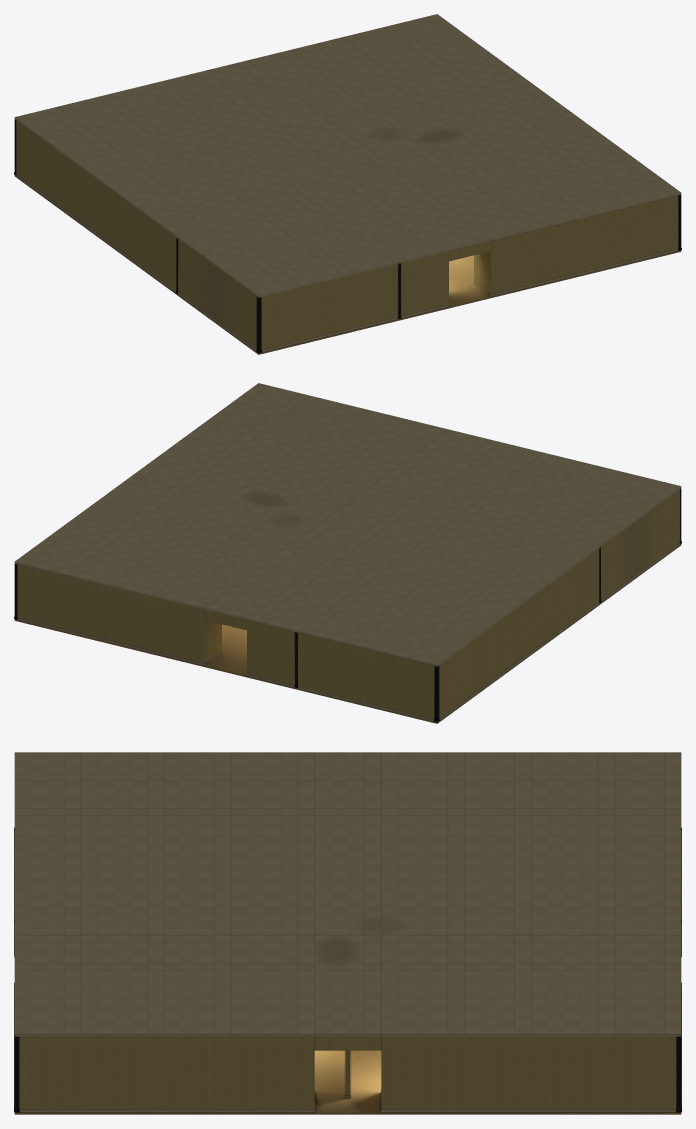
3 renders of one model, top to bottom at view 1: azimuth 30°, elevation 25°; view 2: azimuth 150°, elevation 25°; view 3: azimuth 270°, elevation 25°, orthographic. The views are drawn at different scales.
Visible parts, largest first — view 1: Ceiling, Walls, Floor, Pillars; view 2: Ceiling, Walls, Floor, Pillars; view 3: Ceiling, Walls, Floor, Pillars.
Boxes of the visible parts, x1,y1,x2,y2 form: Ceiling: (14,14,681,297); Walls: (14,119,681,350); Floor: (14,175,681,354); Pillars: (14,172,681,353); Ceiling: (14,383,681,666); Walls: (14,488,681,719); Floor: (14,544,681,723); Pillars: (14,541,681,722); Ceiling: (14,752,681,1036); Walls: (14,1036,681,1109); Floor: (14,1050,681,1114); Pillars: (14,827,681,1112).
Size of what is drawn, in the model's own units: 24.04 by 3.2 by 24.04.
7 materials, 5 textured.
